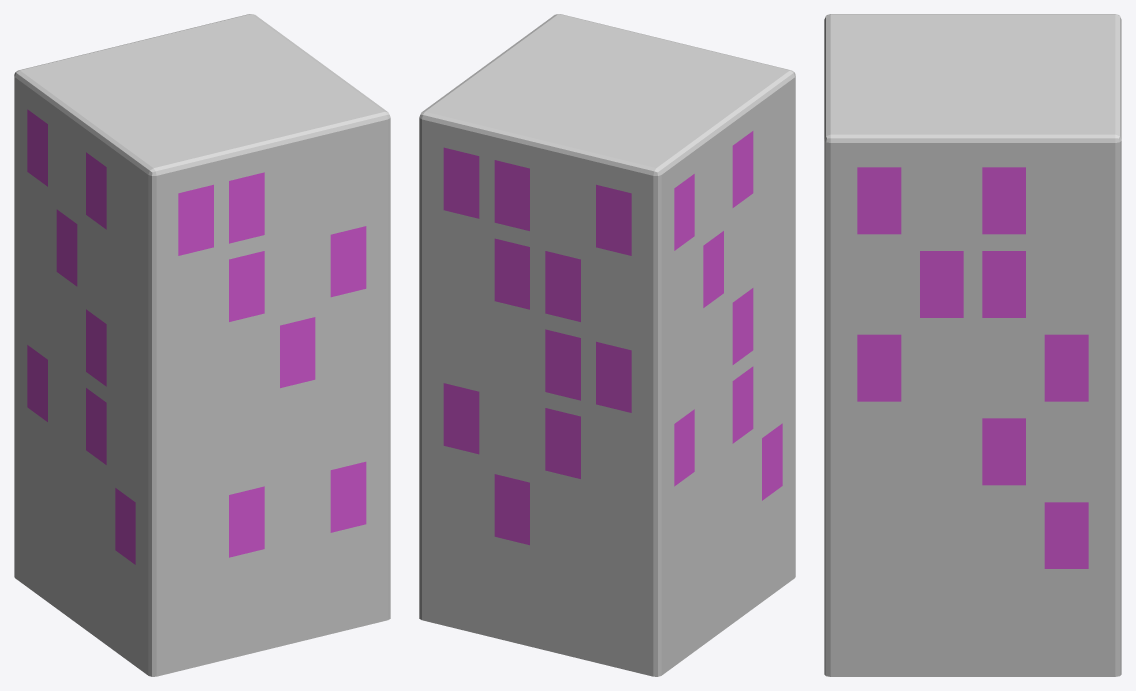
Rendered from habitat.fbx.
3 views of the same model, side by side, from view 1: azimuth 30°, elevation 25°; view 2: azimuth 150°, elevation 25°; view 3: azimuth 270°, elevation 25° (orthographic). The views are drawn at different scales.
Parts seen in each view (by area): view 1: Cube; view 2: Cube; view 3: Cube.
Boxes of the visible parts, <box> form: Cube: <box>14,14,390,676</box>; Cube: <box>419,14,795,676</box>; Cube: <box>824,14,1121,676</box>.
Bounding box in the file's own units: 8 × 8 × 16.01.
